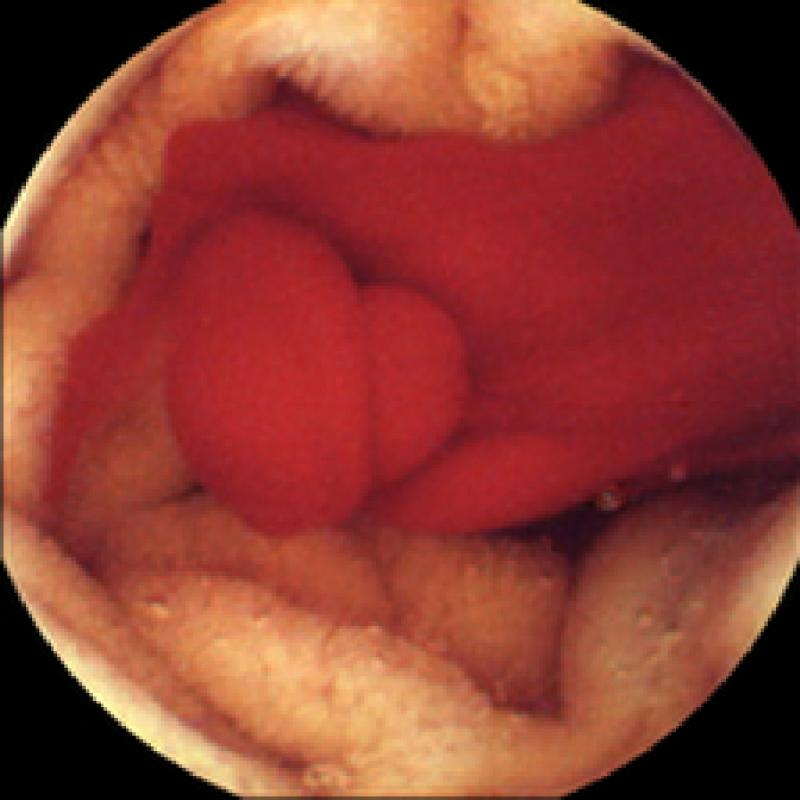bleeding: (79, 107, 764, 532)
